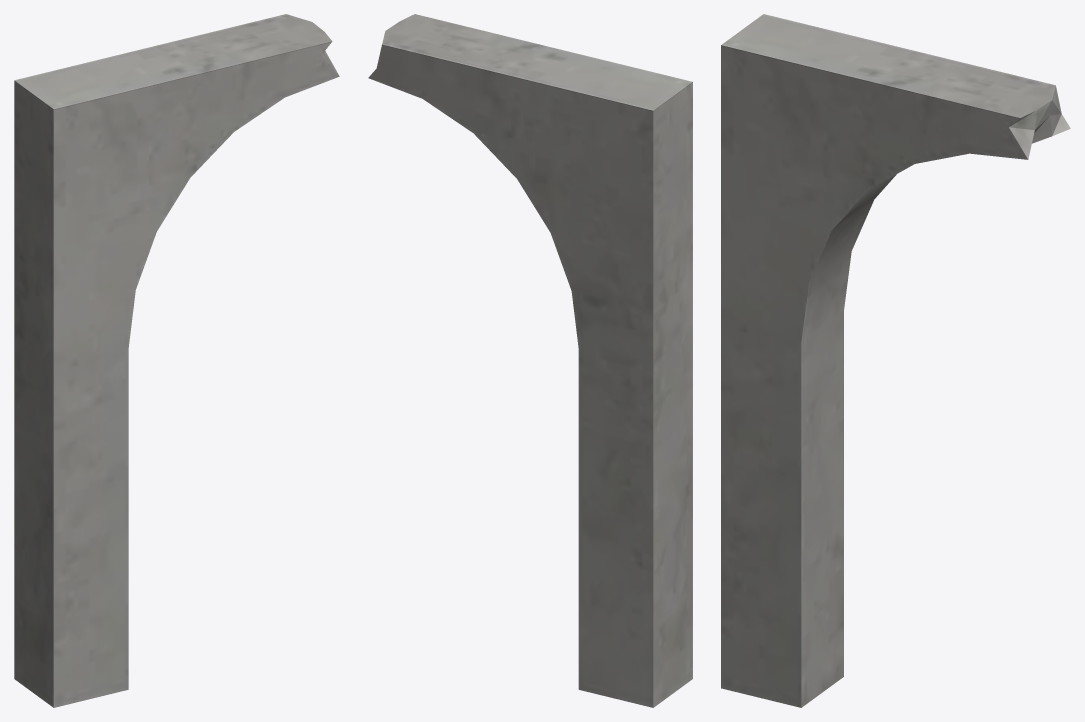
Rendered from temple-arch-broken.glb.
3 views of the same model, side by side, from view 1: azimuth 30°, elevation 25°; view 2: azimuth 150°, elevation 25°; view 3: azimuth 330°, elevation 25° (orthographic). The views are drawn at different scales.
Parts seen in each view (by area): view 1: low; view 2: low; view 3: low.
Part boxes in pixels (x1,y1,x2,y2): low: (14, 14, 339, 707); low: (368, 14, 692, 707); low: (721, 14, 1070, 707).
Size of the model in its own units: 0.9998 by 2 by 0.24.
1 material, 1 textured.
